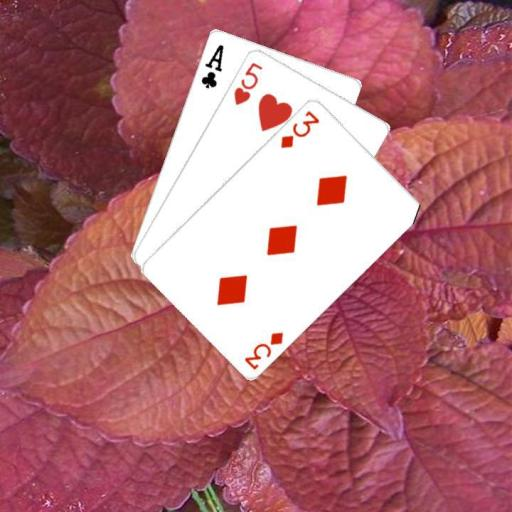3D: (278, 107, 322, 150), (241, 328, 285, 371)
5H: (231, 58, 265, 107)
AC: (198, 41, 225, 90)
